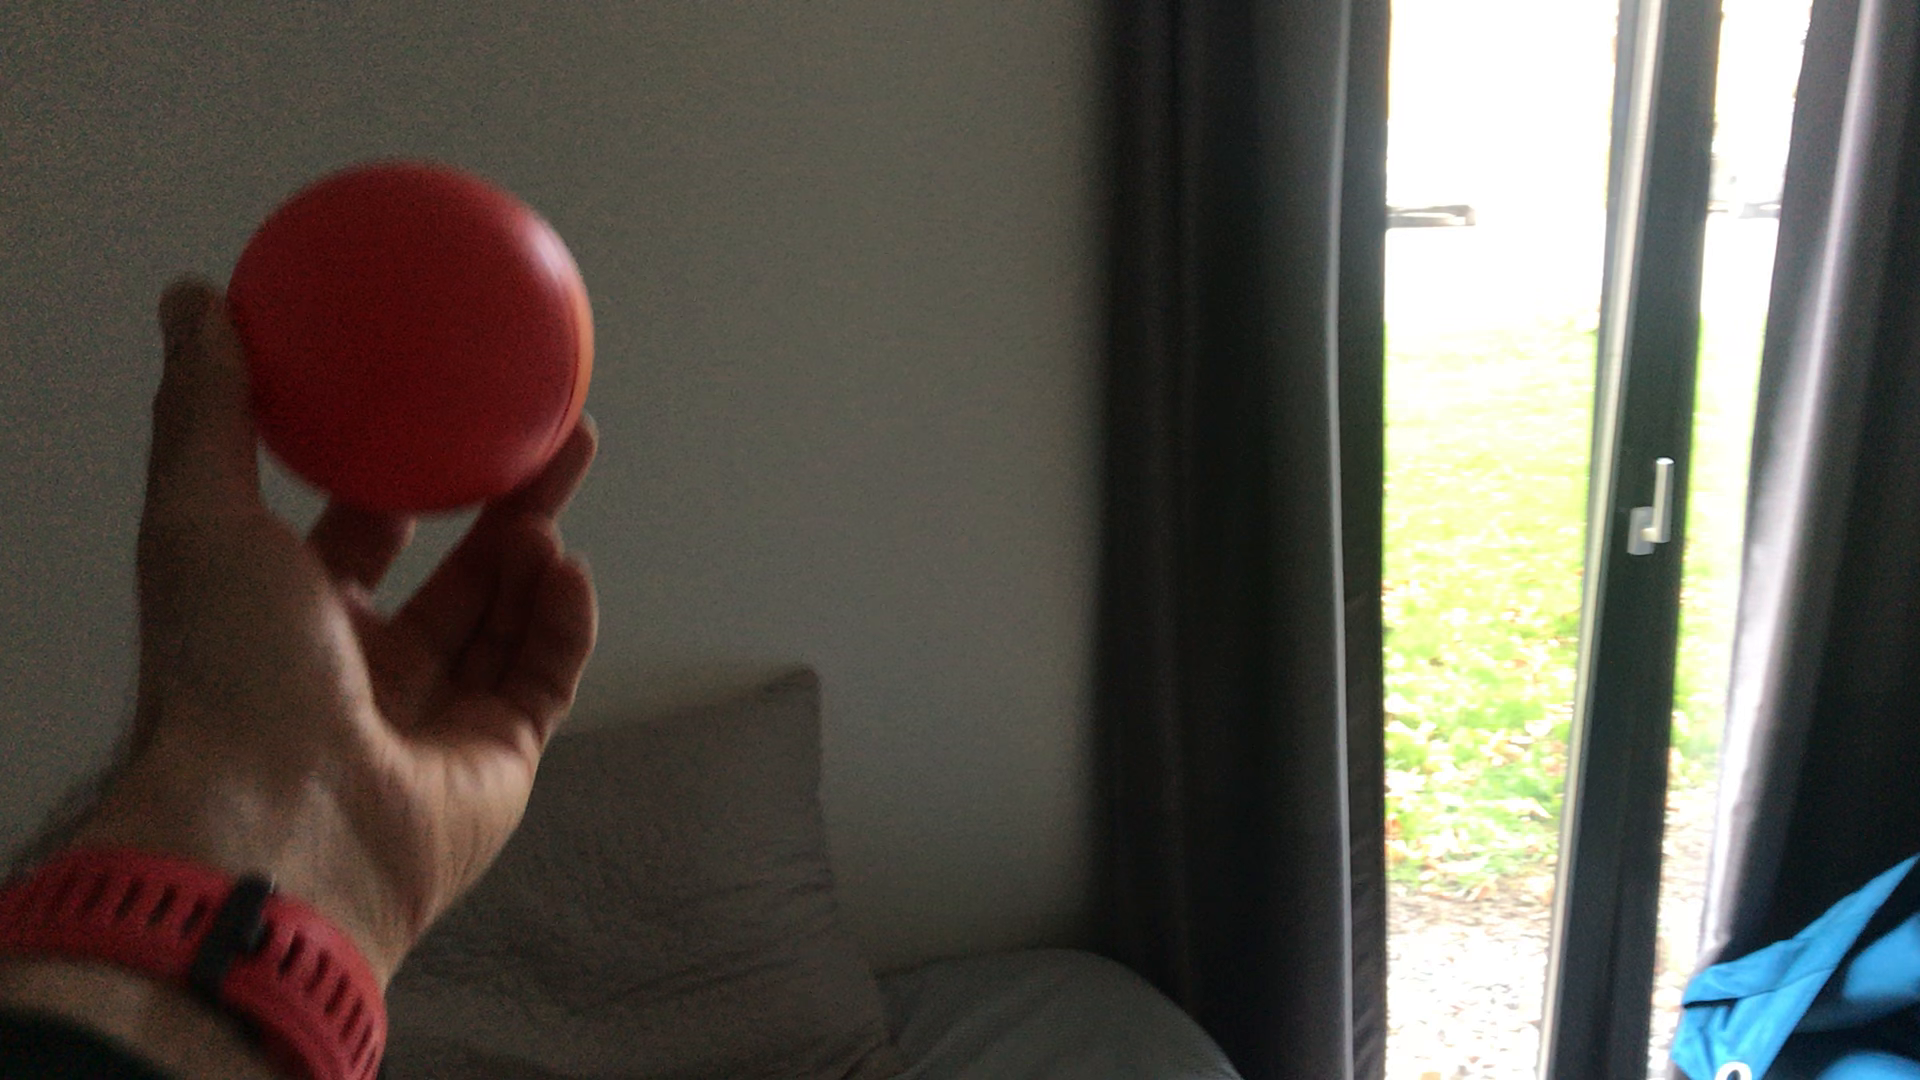Ball: (225, 158, 600, 508)
